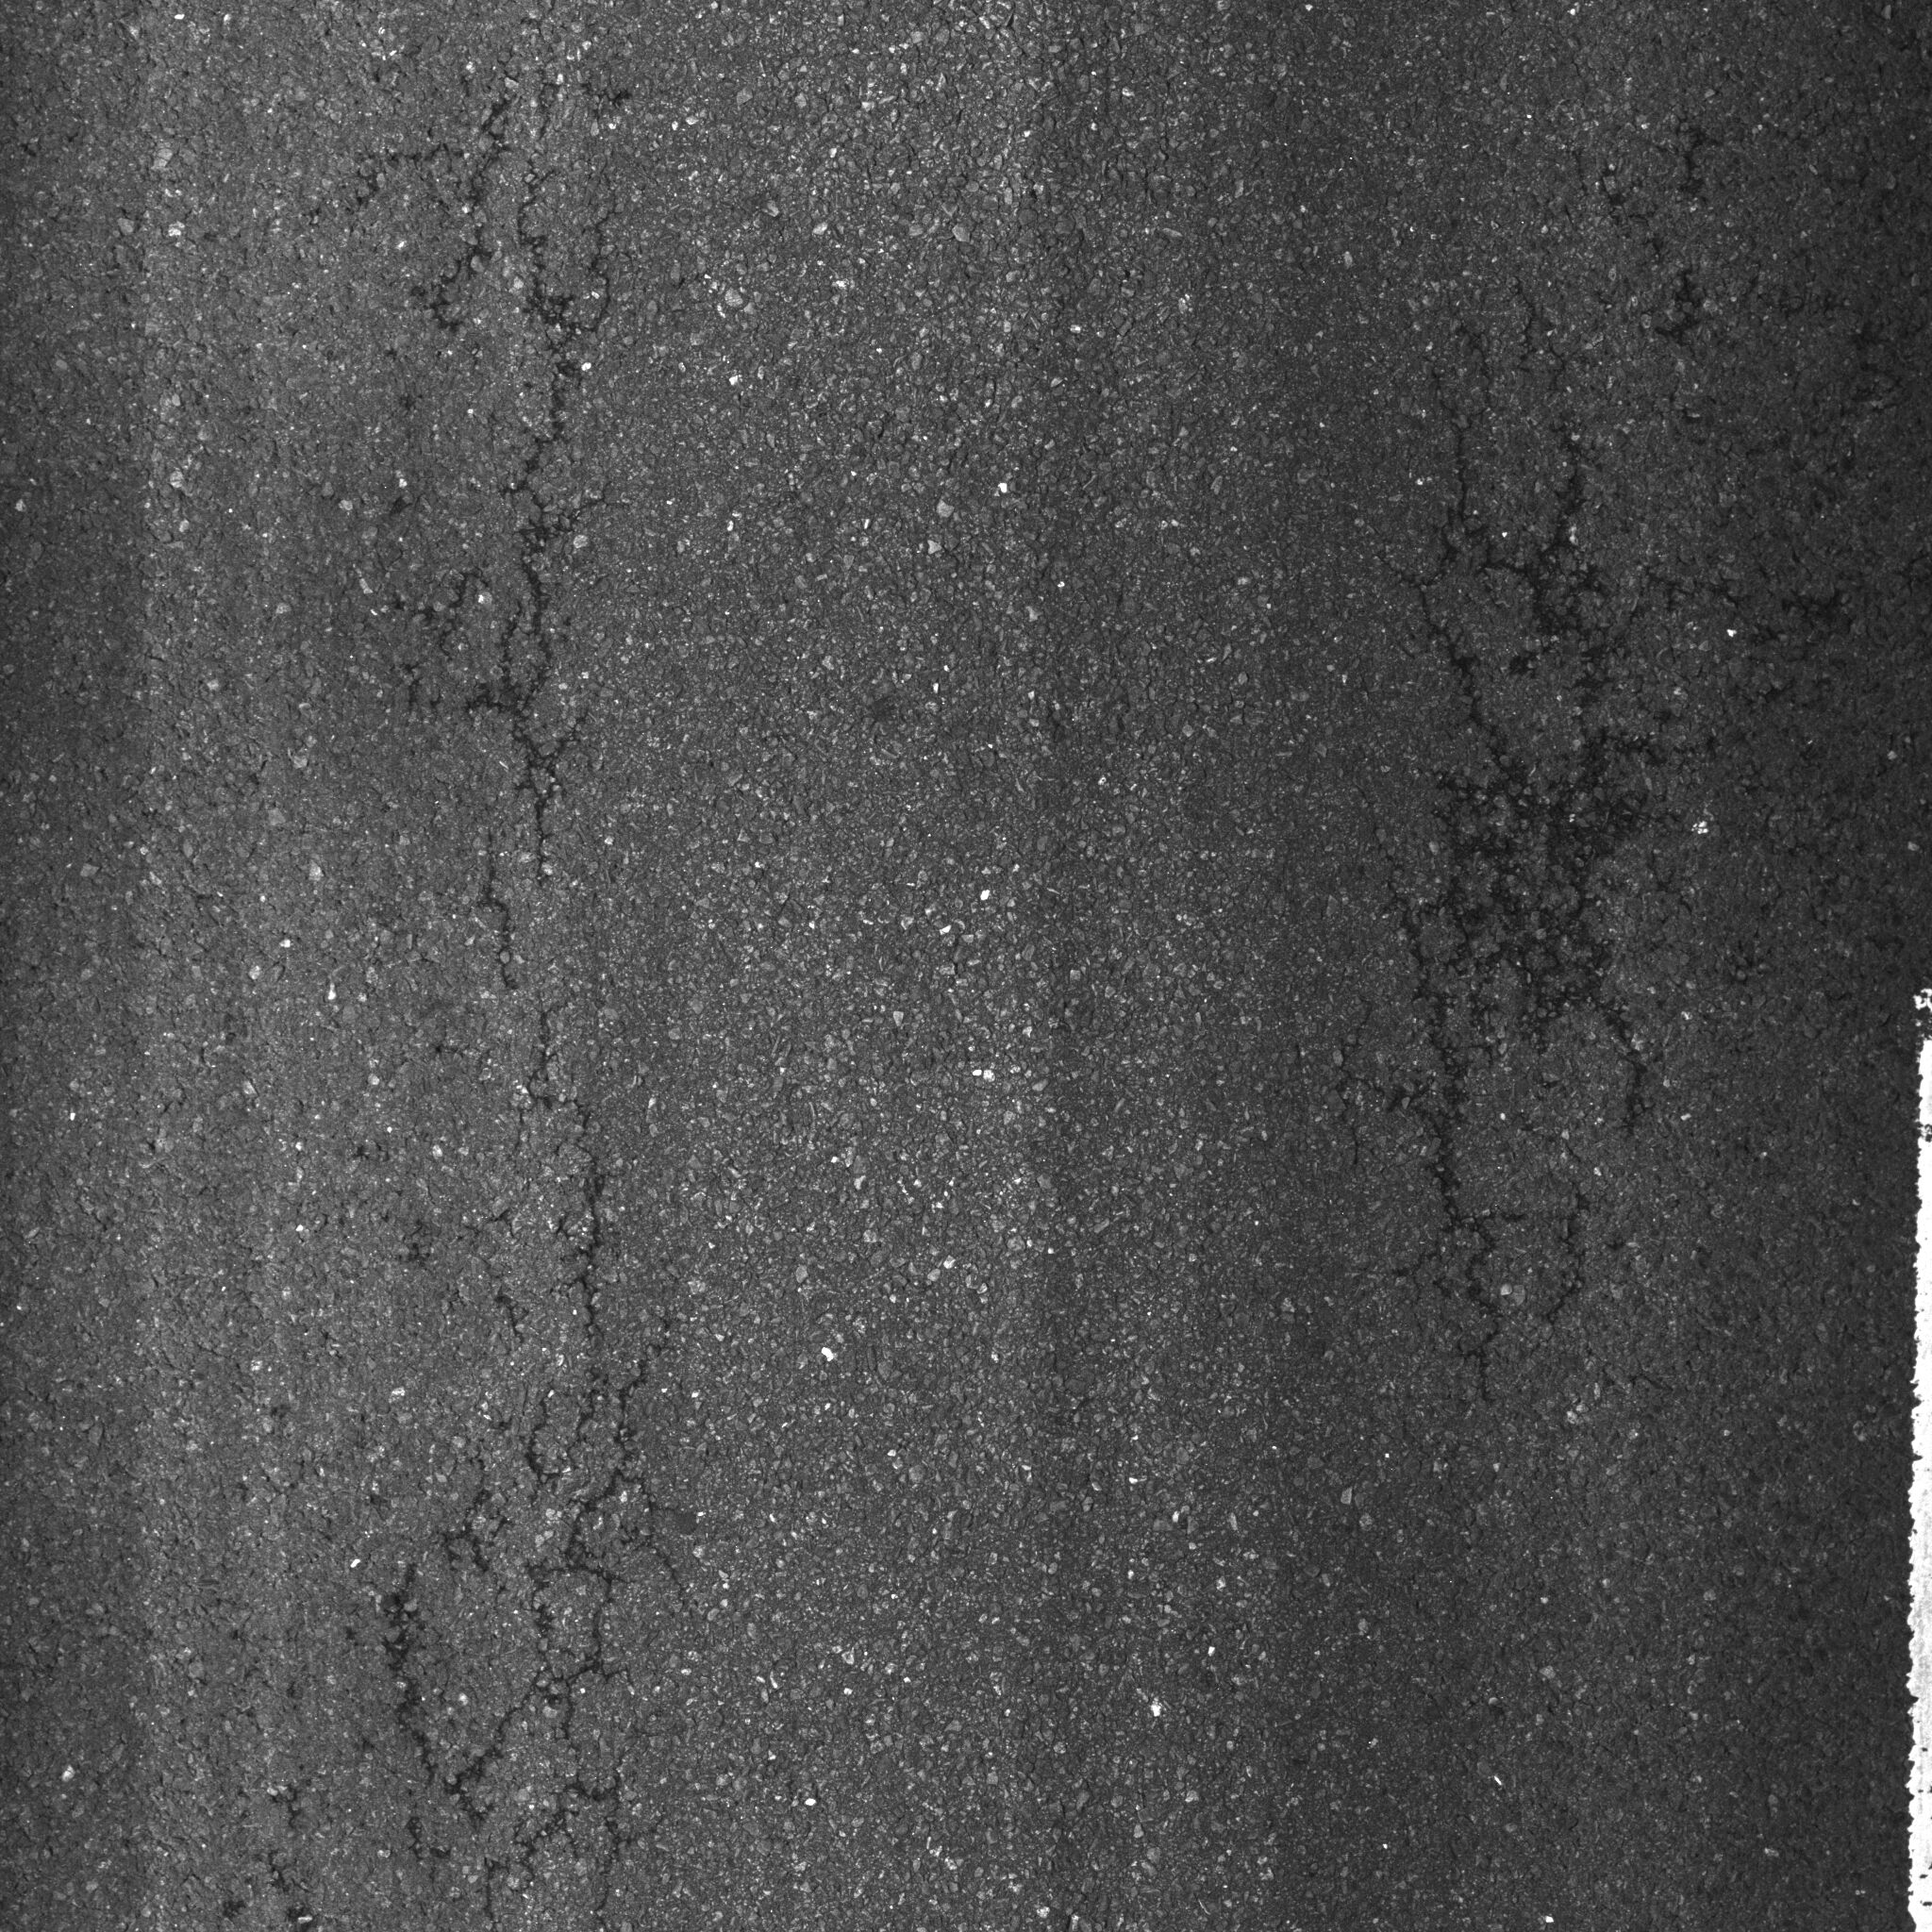alligator: (211, 41, 817, 1932), (1214, 228, 1867, 1398)
